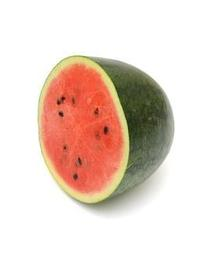watermelon: (38, 55, 176, 207)
